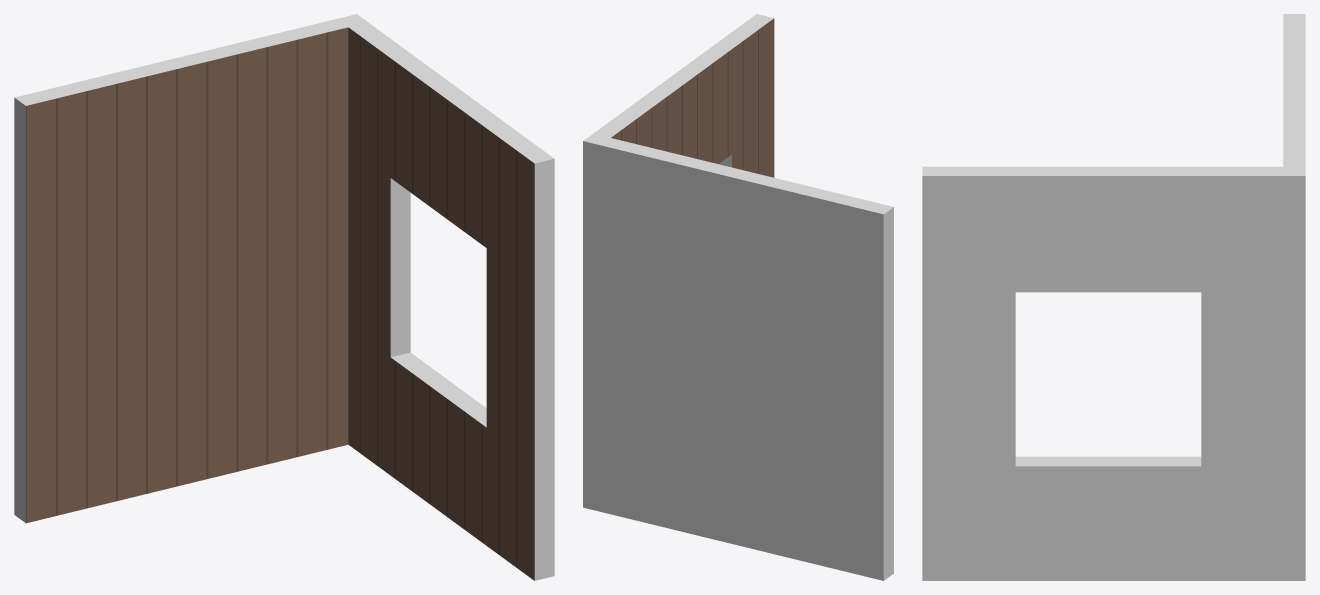
The model's file is Wall1_C9_11.fbx.
3 renders of one model, left to right at view 1: azimuth 30°, elevation 25°; view 2: azimuth 150°, elevation 25°; view 3: azimuth 270°, elevation 25°, orthographic. The views are drawn at different scales.
Visible parts, largest first — view 1: Wall1_C9_11; view 2: Wall1_C9_11; view 3: Wall1_C9_11.
Part boxes in pixels (box(x1,y1,x2,y2)): Wall1_C9_11: box(14, 14, 554, 580); Wall1_C9_11: box(583, 14, 893, 580); Wall1_C9_11: box(922, 14, 1305, 580).
Bounding box in the file's own units: 258 × 300 × 258.
